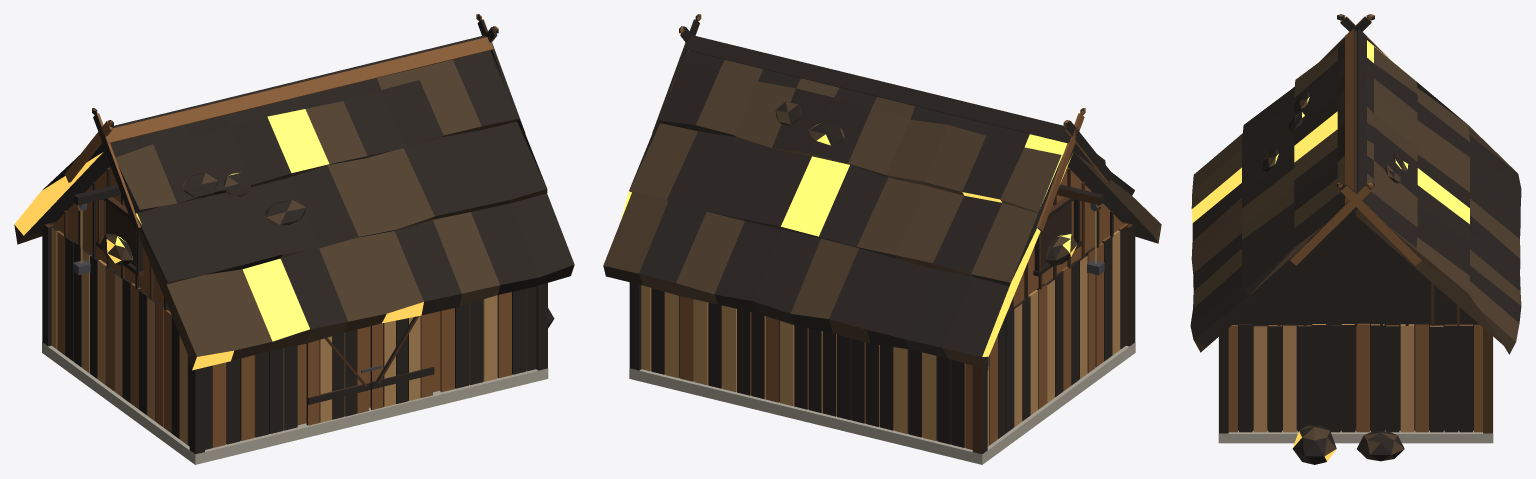
The model's file is Dorf_Scheune_Beschaedigt.fbx.
3 renders of one model, left to right at view 1: azimuth 30°, elevation 25°; view 2: azimuth 150°, elevation 25°; view 3: azimuth 270°, elevation 25°, orthographic. The views are drawn at different scales.
Parts seen in each view (by area): view 1: Dorf_Scheune_Beschaedigt; view 2: Dorf_Scheune_Beschaedigt; view 3: Dorf_Scheune_Beschaedigt.
Part boxes in pixels (x1,y1,x2,y2): Dorf_Scheune_Beschaedigt: [14, 14, 574, 464]; Dorf_Scheune_Beschaedigt: [603, 14, 1161, 464]; Dorf_Scheune_Beschaedigt: [1190, 14, 1521, 464].
Bounding box in the file's own units: 11.29 × 7.17 × 8.02.
